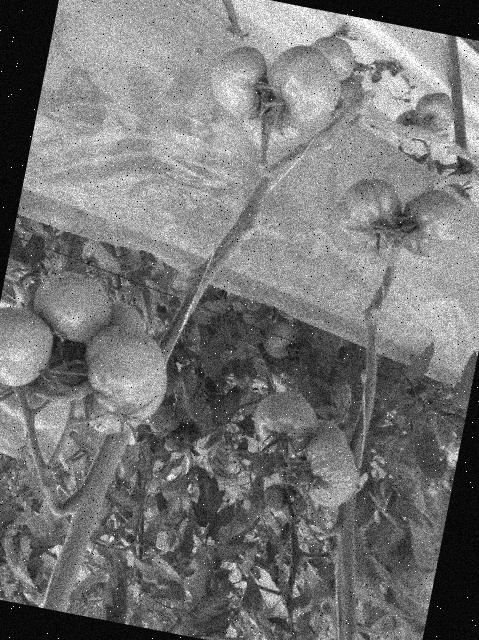b_green: (69, 320, 175, 442), (0, 326, 95, 437), (258, 38, 347, 133), (26, 265, 116, 347), (325, 171, 407, 260), (393, 183, 468, 263), (294, 428, 365, 511), (247, 385, 322, 459), (236, 87, 308, 157), (0, 303, 57, 391), (303, 32, 358, 83), (103, 300, 148, 333), (145, 401, 181, 439), (161, 424, 194, 458), (391, 106, 422, 140), (312, 418, 350, 445), (279, 444, 310, 477), (258, 481, 289, 513)
b_half_ripened: (203, 40, 270, 120), (410, 87, 458, 135), (326, 73, 366, 126), (258, 315, 300, 361)
